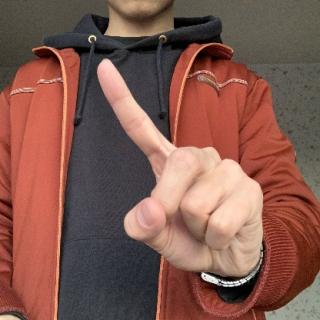BAA: (93, 54, 268, 281)
